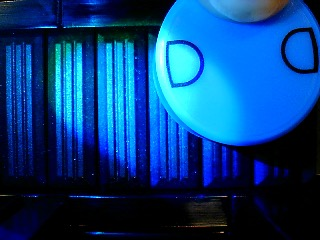MIPO2: (152, 1, 320, 148)
